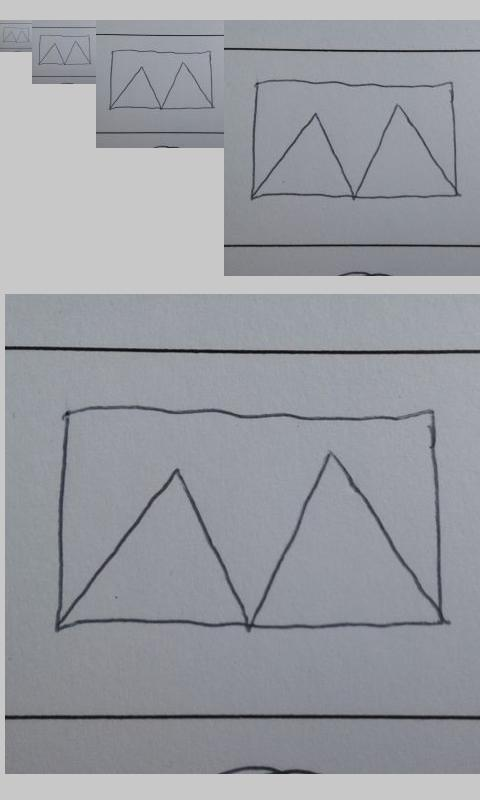image_view: (56, 403, 445, 633), (251, 78, 459, 199), (109, 48, 215, 111), (38, 34, 91, 66), (2, 26, 30, 43)
